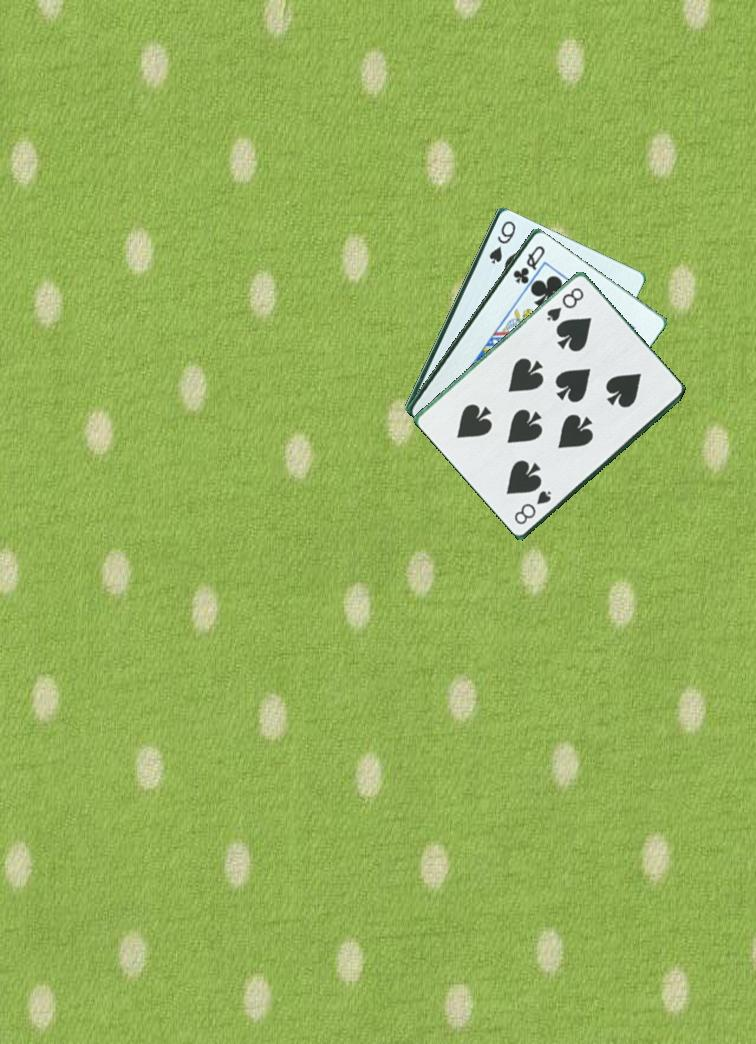8s: (543, 283, 594, 324), (511, 485, 556, 527)
9s: (485, 217, 518, 267)
qc: (509, 241, 548, 286)
